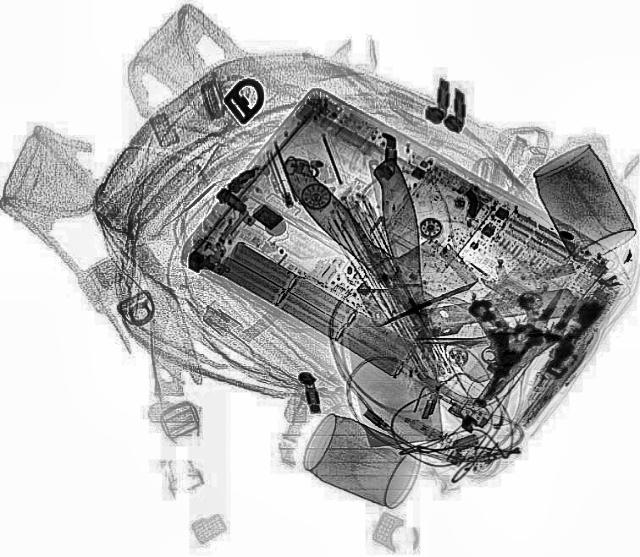Knife: (266, 130, 552, 394), (310, 156, 456, 448)
